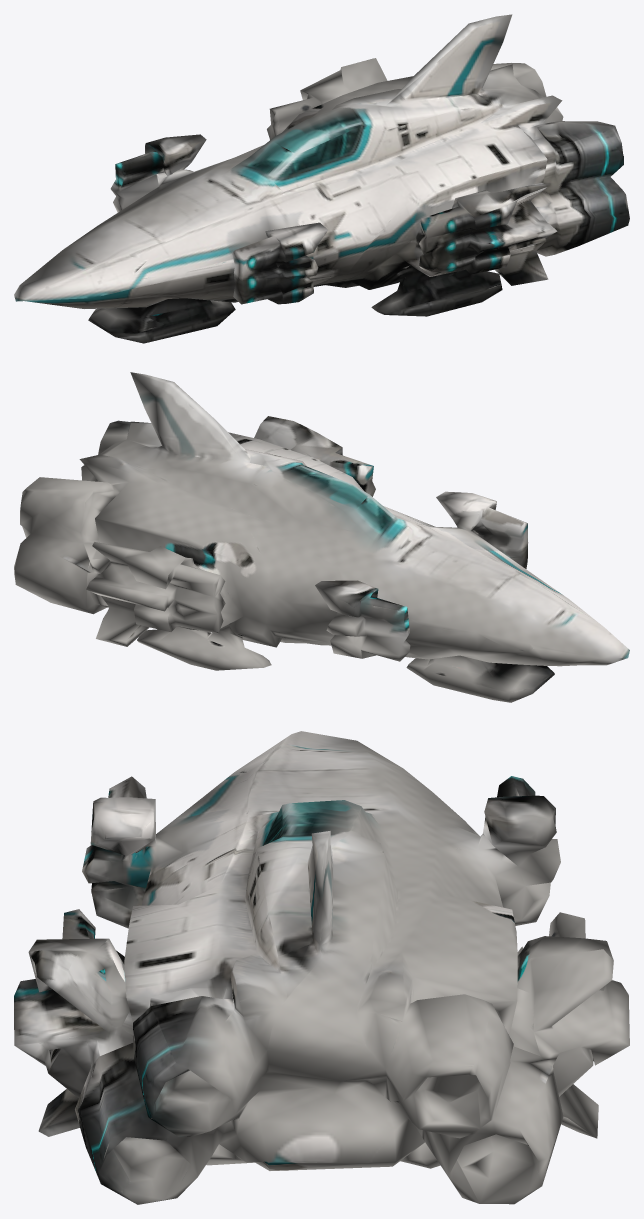
File: chergui_lod2.glb
3 renders of one model, top to bottom at view 1: azimuth 30°, elevation 25°; view 2: azimuth 150°, elevation 25°; view 3: azimuth 270°, elevation 25°, orthographic. The views are drawn at different scales.
Visible parts, largest first — view 1: geometry_0; view 2: geometry_0; view 3: geometry_0.
Part boxes in pixels (<box>): geometry_0: <box>14,14,629,343</box>; geometry_0: <box>14,372,629,702</box>; geometry_0: <box>14,731,629,1204</box>.
Size of the model in its own units: 2.01 by 0.7747 by 1.17.
1 material, 1 textured.
